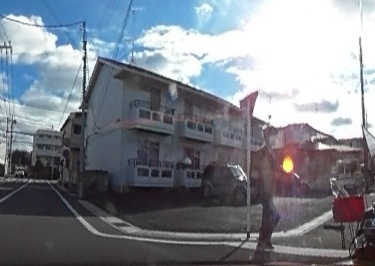person: (246, 122, 280, 249)
